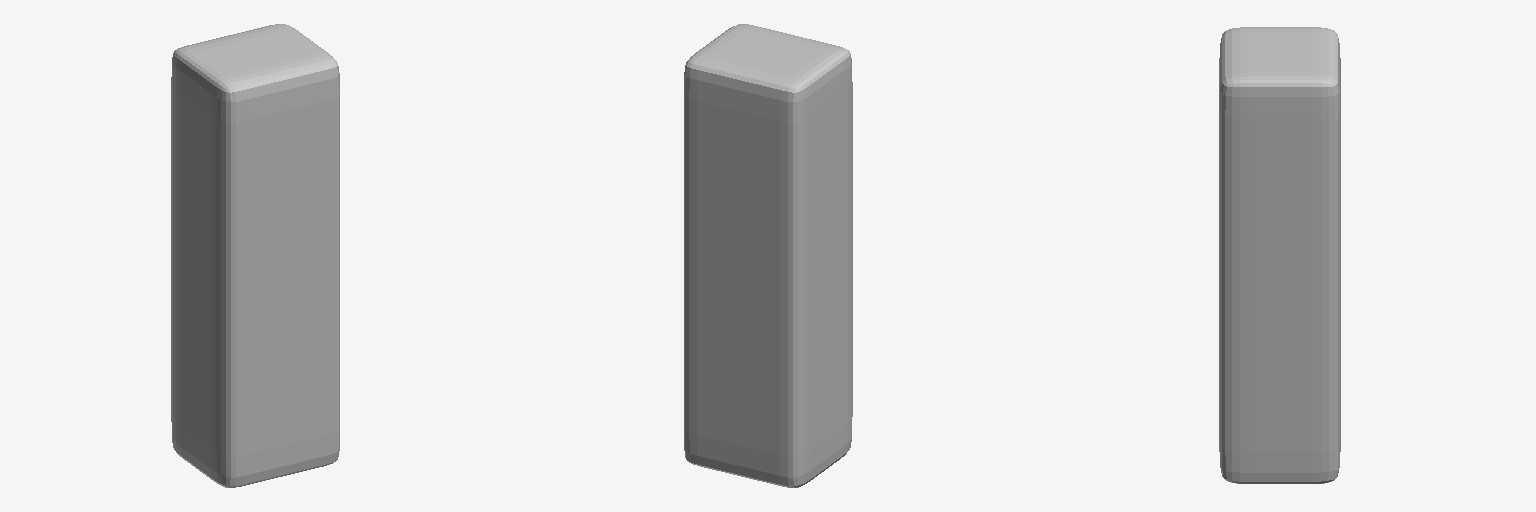
3 views of the same model, side by side, from view 1: azimuth 30°, elevation 25°; view 2: azimuth 150°, elevation 25°; view 3: azimuth 270°, elevation 25° (orthographic).
Visible parts, largest first — view 1: polySurface3 text2FixedOneObjectNewNoHistory:pasted__T1; view 2: polySurface3 text2FixedOneObjectNewNoHistory:pasted__T1; view 3: polySurface3 text2FixedOneObjectNewNoHistory:pasted__T1.
Part boxes in pixels (bbox=[...]): polySurface3 text2FixedOneObjectNewNoHistory:pasted__T1: bbox=[171, 24, 339, 487]; polySurface3 text2FixedOneObjectNewNoHistory:pasted__T1: bbox=[684, 24, 852, 487]; polySurface3 text2FixedOneObjectNewNoHistory:pasted__T1: bbox=[1219, 27, 1340, 483].
Bounding box in the file's own units: 194 × 627 × 170.